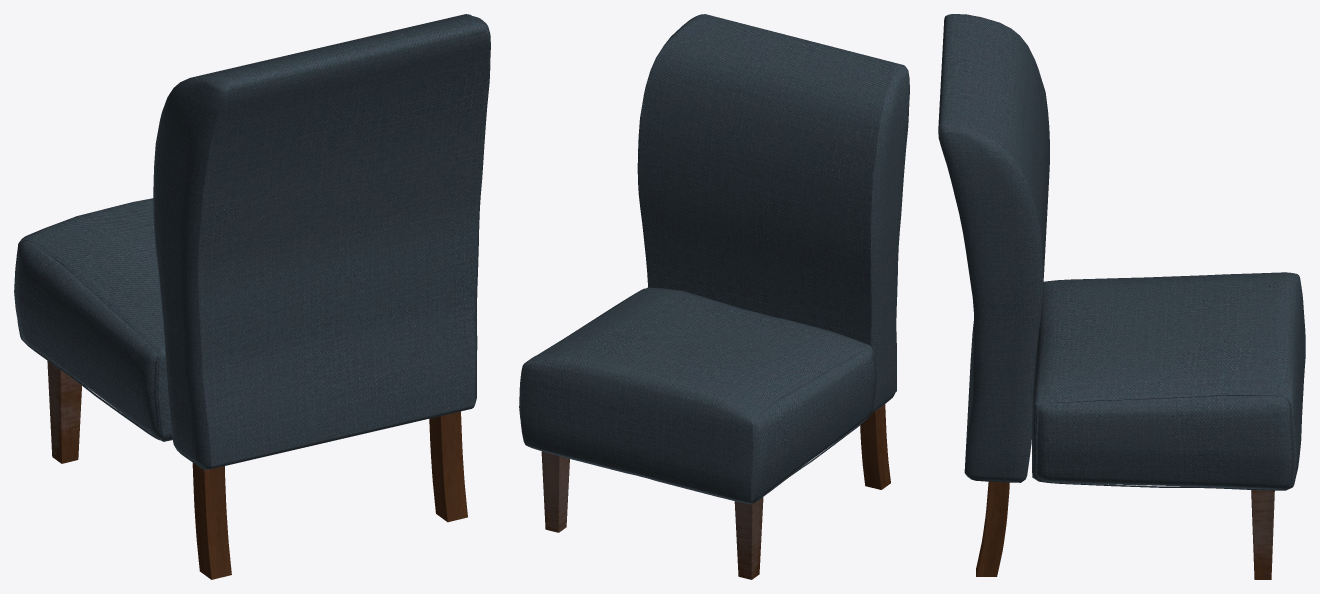
The model's file is abo_B07BWJCZJX.glb.
3 views of the same model, side by side, from view 1: azimuth 30°, elevation 25°; view 2: azimuth 150°, elevation 25°; view 3: azimuth 270°, elevation 25° (orthographic). The views are drawn at different scales.
Visible parts, largest first — view 1: Root; view 2: Root; view 3: Root.
Part boxes in pixels (x1,y1,x2,y2): Root: [14, 14, 490, 579]; Root: [519, 14, 909, 579]; Root: [938, 14, 1305, 579].
Bounding box in the file's own units: 0.513 × 0.804 × 0.5915.
Materials: 1 (1 with a texture image).
